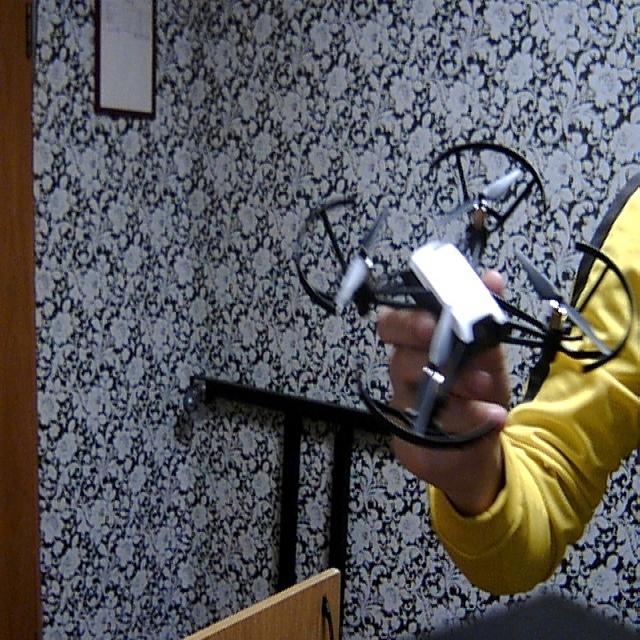drone: (298, 136, 640, 469)
